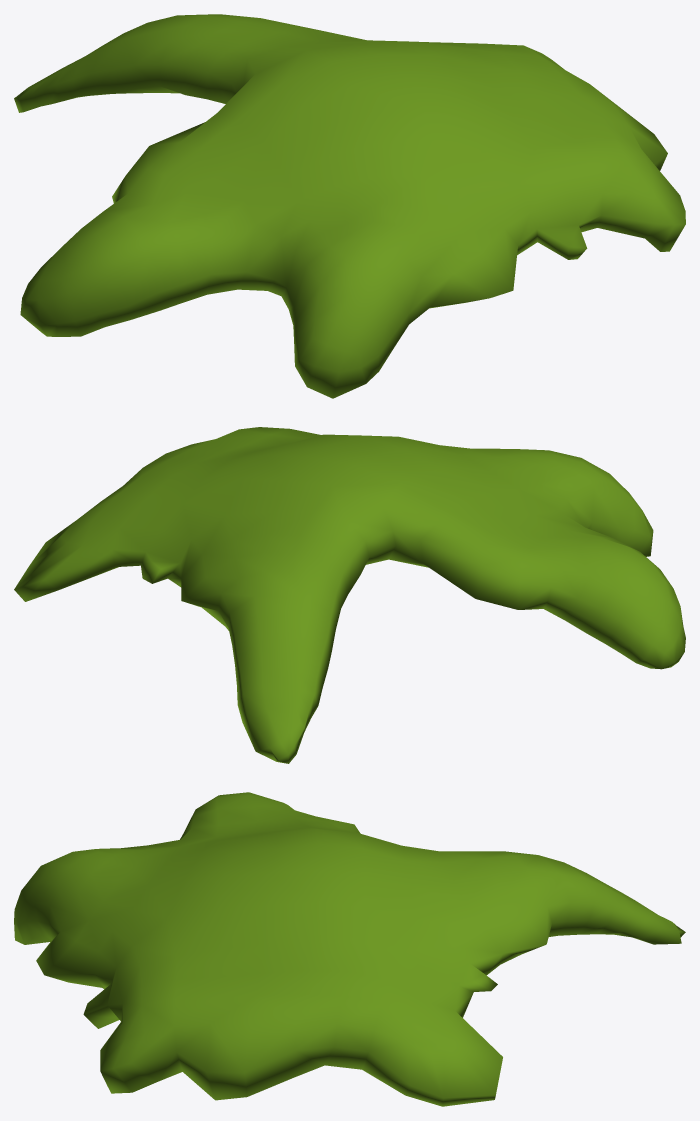
File: candle_down.fbx
3 renders of one model, top to bottom at view 1: azimuth 30°, elevation 25°; view 2: azimuth 150°, elevation 25°; view 3: azimuth 270°, elevation 25°, orthographic. The views are drawn at different scales.
Visible parts, largest first — view 1: candle4_low; view 2: candle4_low; view 3: candle4_low.
Part boxes in pixels (x1=…): candle4_low: x1=14, y1=14, x2=685, y2=398; candle4_low: x1=14, y1=427, x2=685, y2=763; candle4_low: x1=14, y1=792, x2=685, y2=1106.
Bounding box in the file's own units: 2461 × 2493 × 677.
